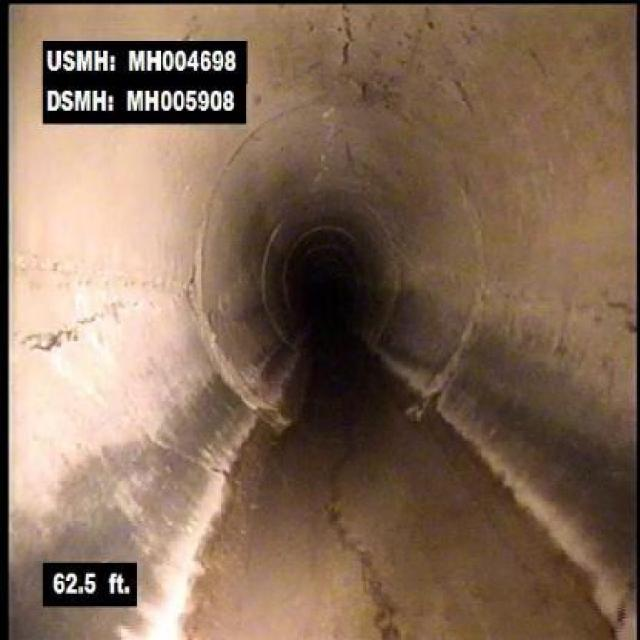Crack: (323, 483, 406, 639), (18, 301, 128, 354), (558, 280, 636, 332), (332, 11, 360, 98)
